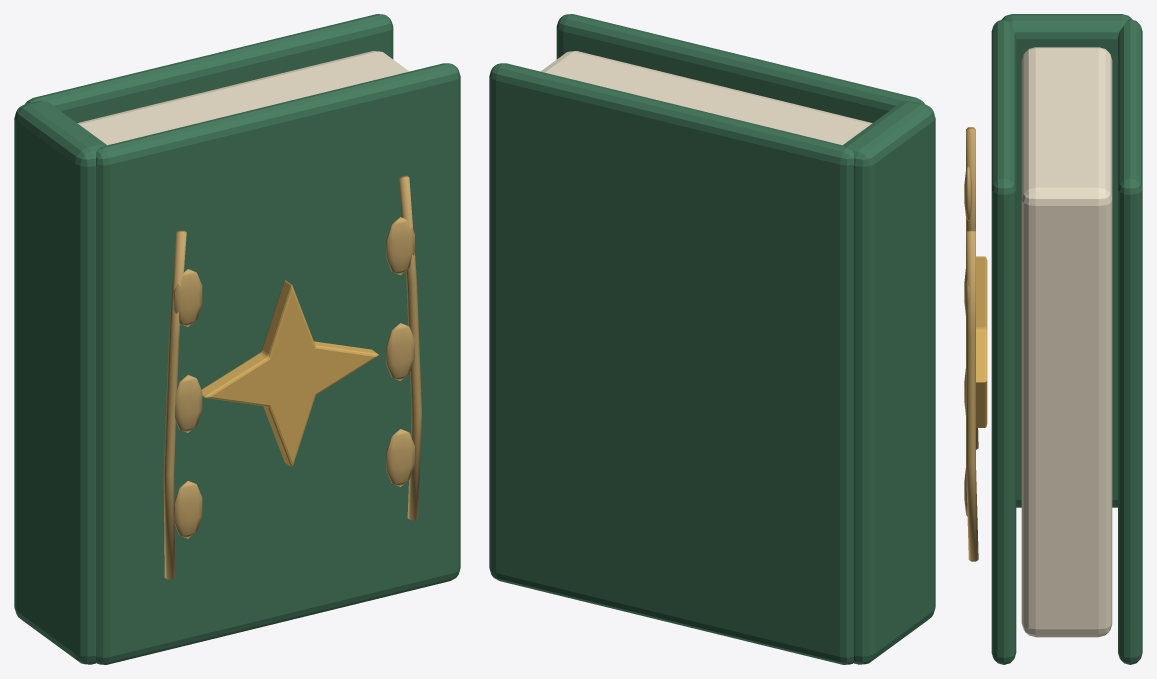
File: apothecary-1.web.glb
3 renders of one model, left to right at view 1: azimuth 30°, elevation 25°; view 2: azimuth 150°, elevation 25°; view 3: azimuth 270°, elevation 25°, orthographic. The views are drawn at different scales.
Visible parts, largest first — view 1: apothecary-1; view 2: apothecary-1; view 3: apothecary-1.
Boxes of the visible parts, <box> form: apothecary-1: <box>14,14,460,664</box>; apothecary-1: <box>489,14,935,664</box>; apothecary-1: <box>964,14,1142,664</box>.
Size of the model in its own units: 0.15 by 0.195 by 0.0649.
